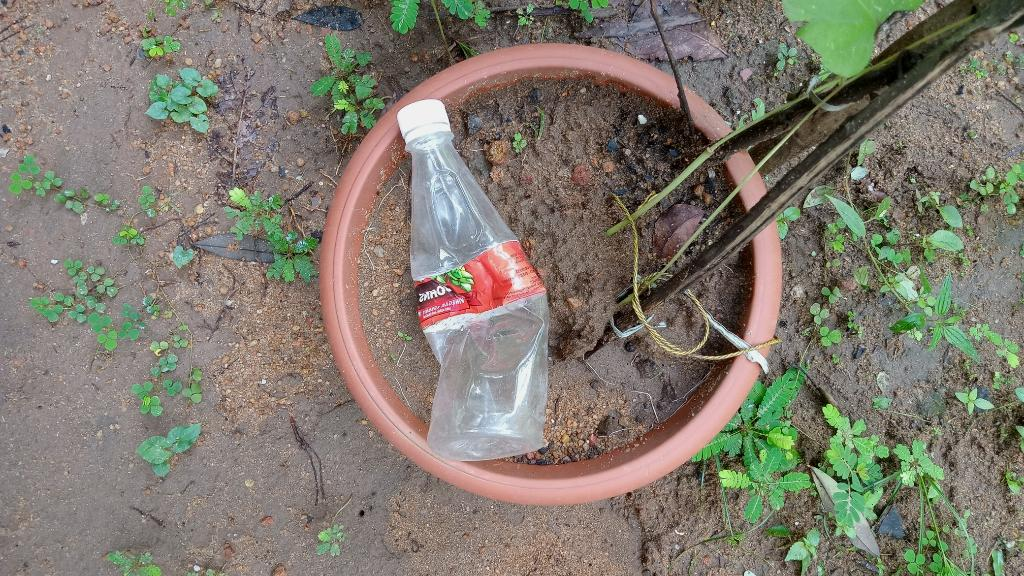garbage: (382, 69, 564, 488)
